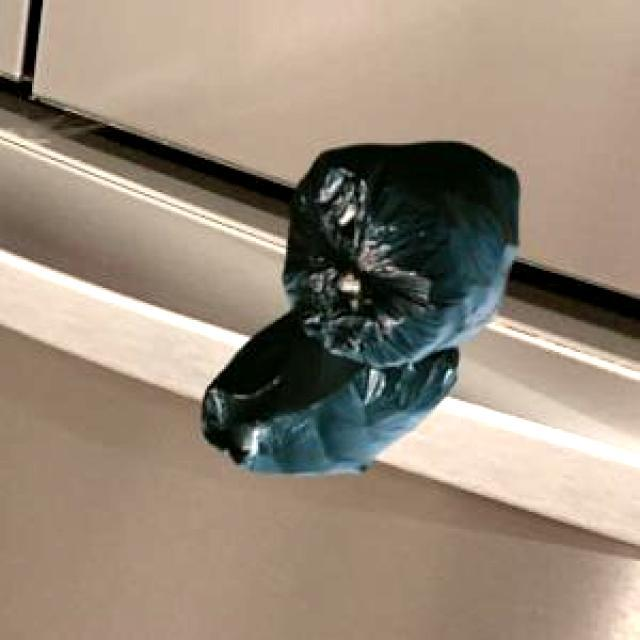Garbage_Bag: (200, 140, 516, 470)
